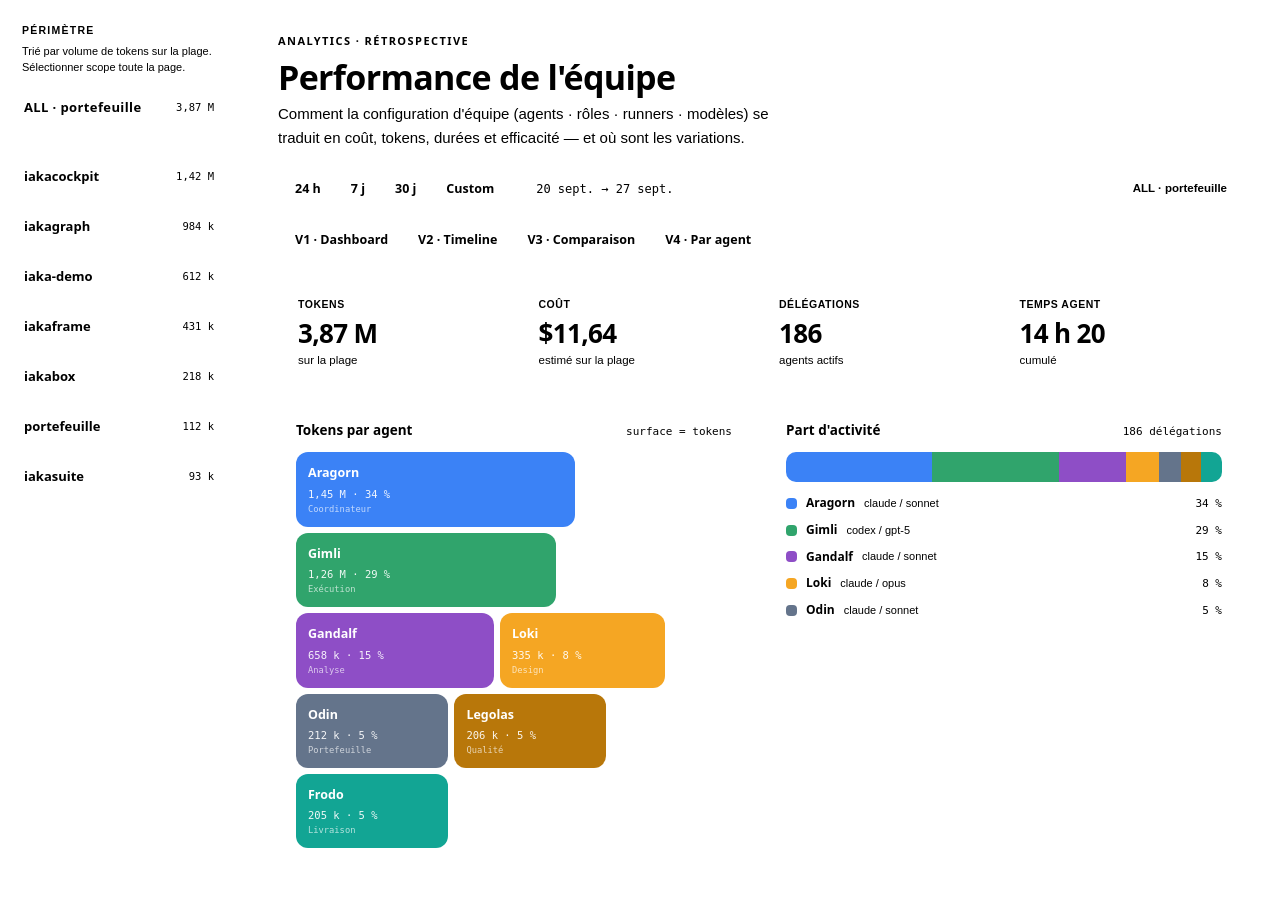
Test: AnalyticsView — toggle de perspective › sélectionner un projet du périmètre change la pastille de scope
The width and height of the screenshot is (1280, 900).
Click the text "iakagraph".
click(57, 226)  # box [24,217,90,235]
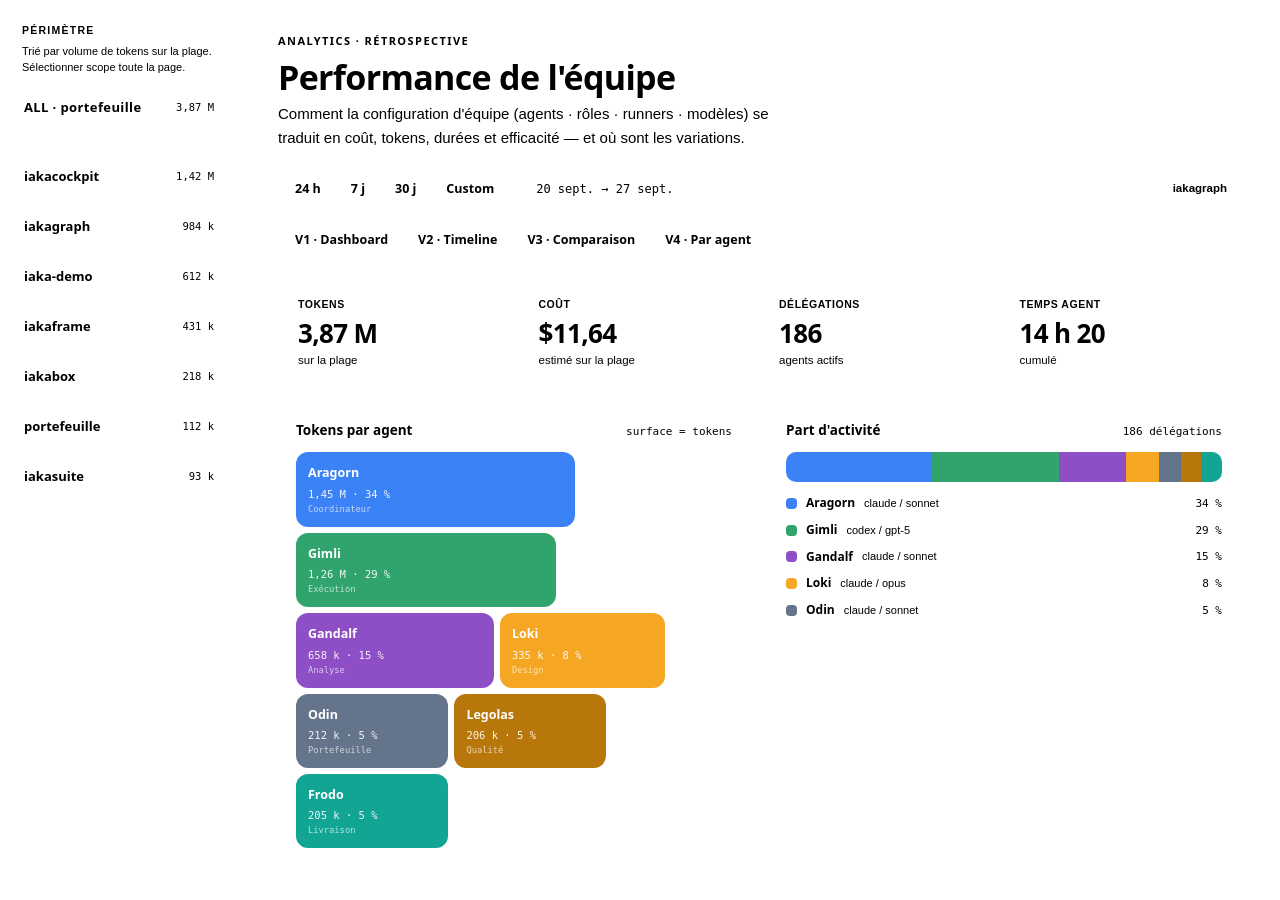
Now the text "iakagraph" in the row of "20 sept. → 27 sept." is shown, box [1173,182,1227,194]
